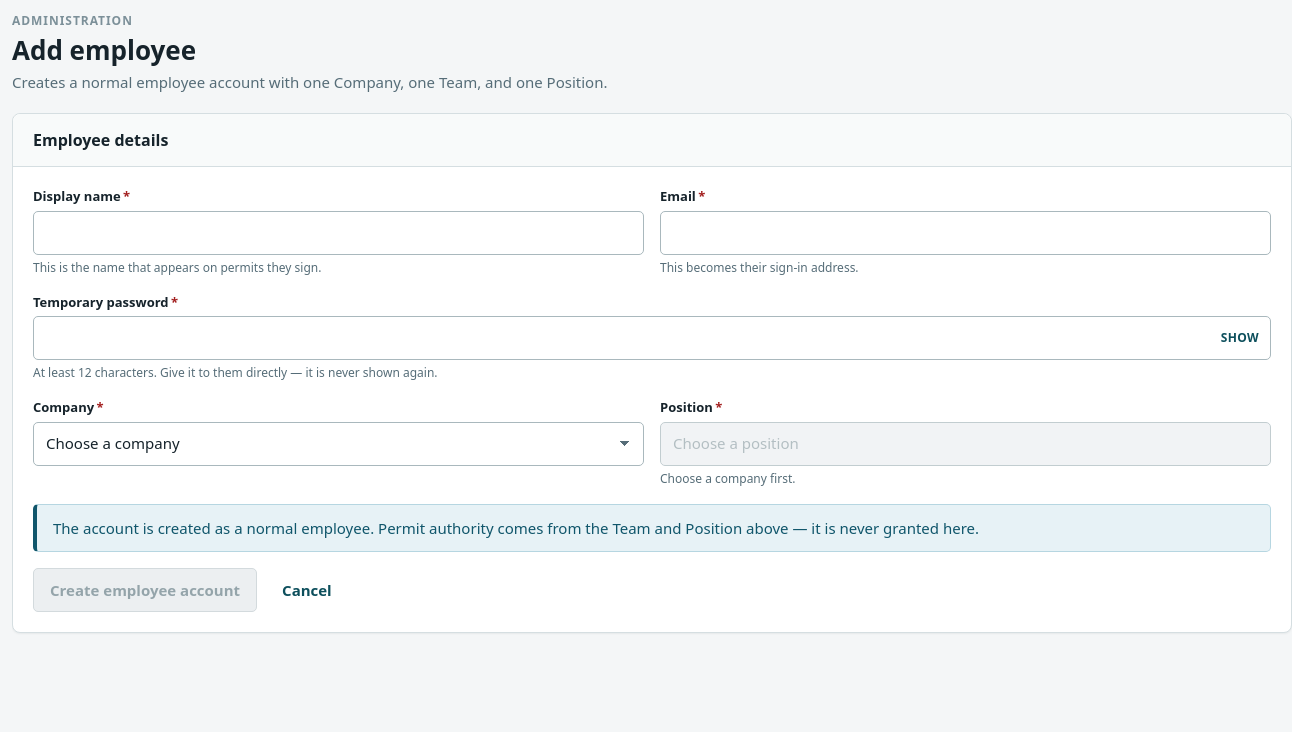
Test: when account management is unavailable in this environment › says so without naming any credential or variable
Type "Ayesha Khan" into the field labelled "Display name*" at (338,232), box x1=33 y1=210 x2=644 y2=254
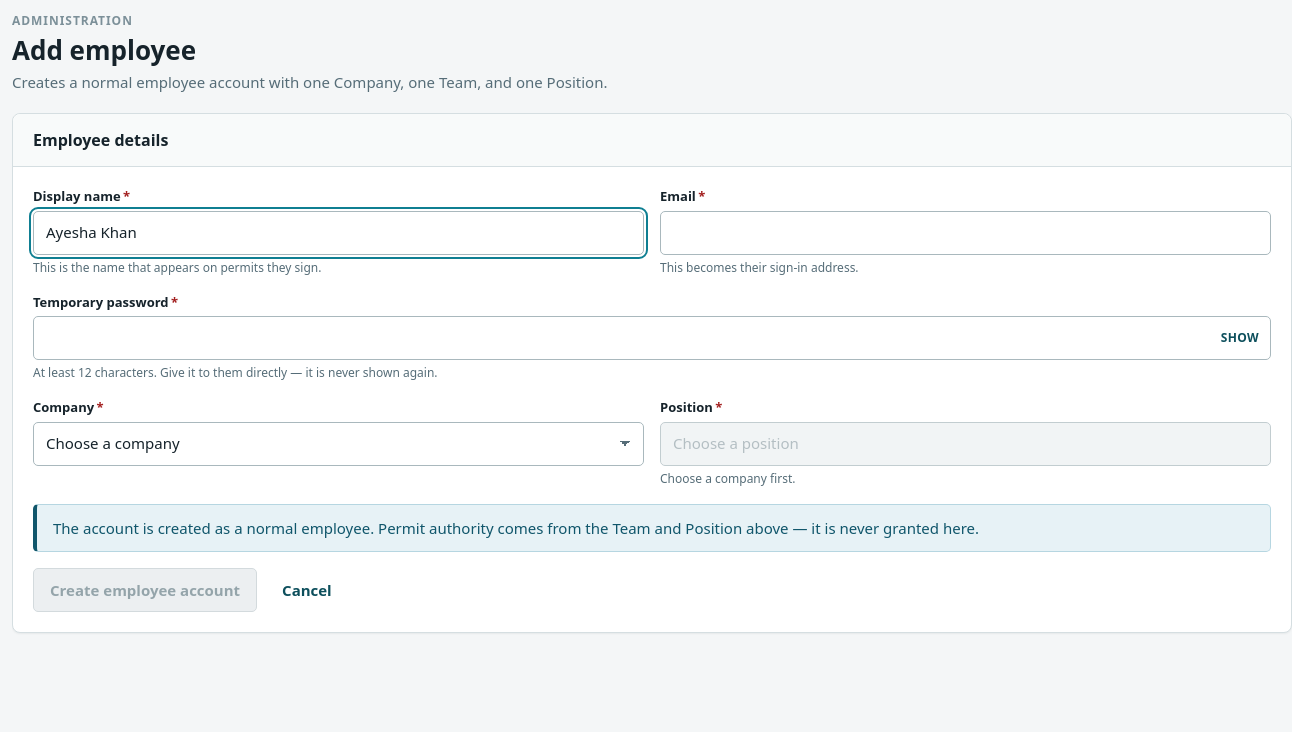
Type "ayesha@example.com" into the field labelled "Email*" at (966,232), box x1=660 y1=210 x2=1271 y2=254
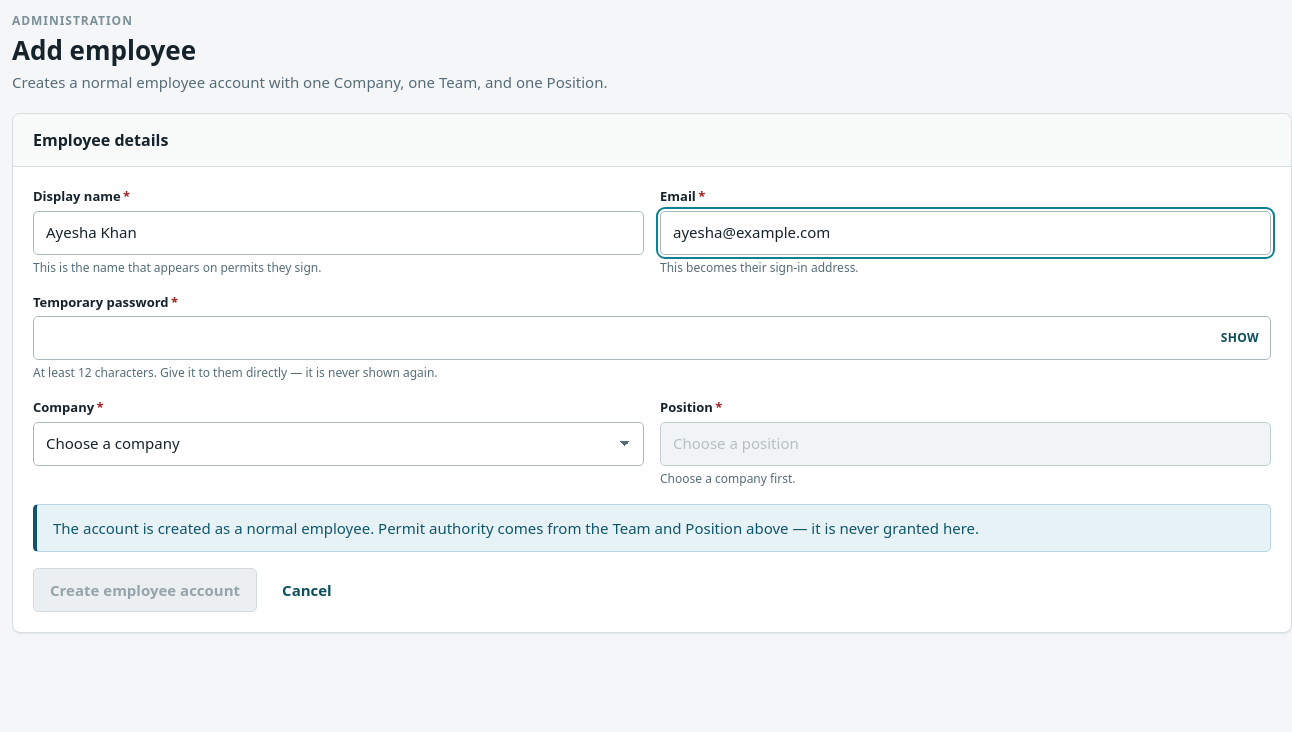
Type "a-temporary-password" into the password field labelled "Temporary password*" at (652,338), box x1=33 y1=316 x2=1271 y2=360
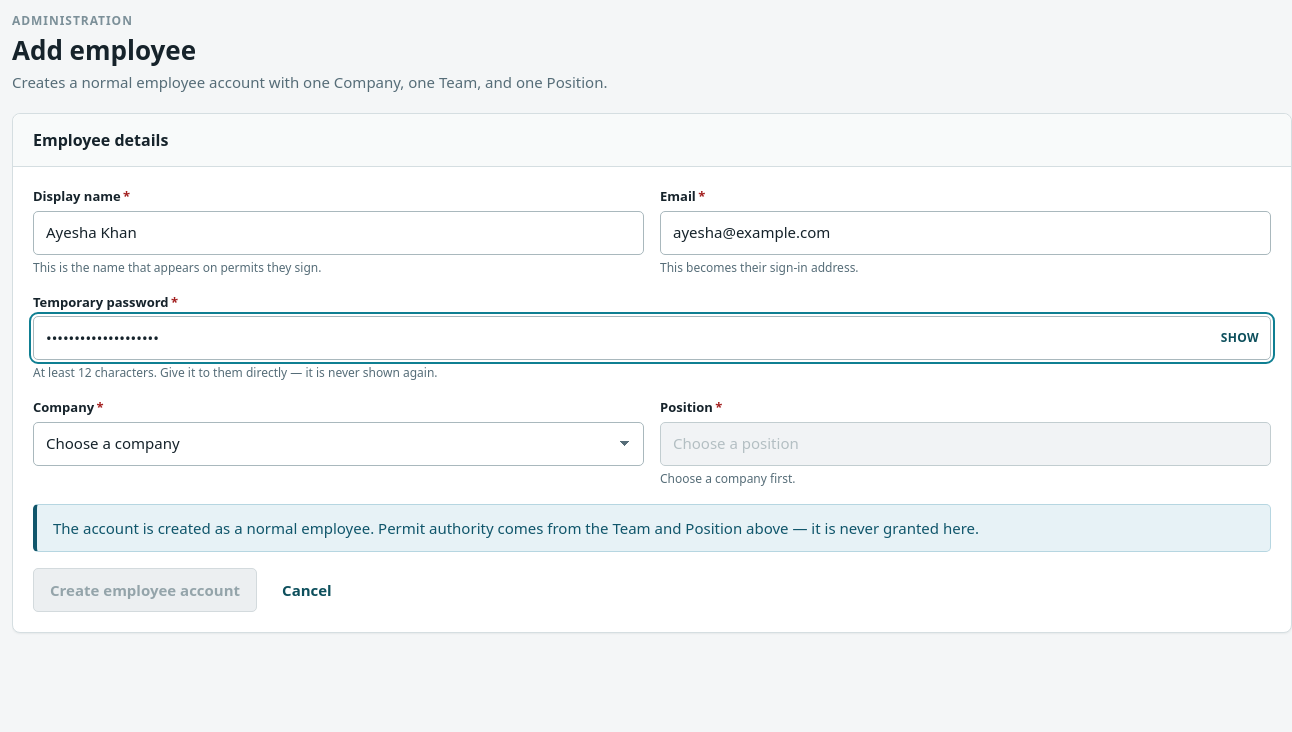
Select "ZPL" in the dropdown labelled "Company*" at (338,444), box x1=33 y1=422 x2=644 y2=466
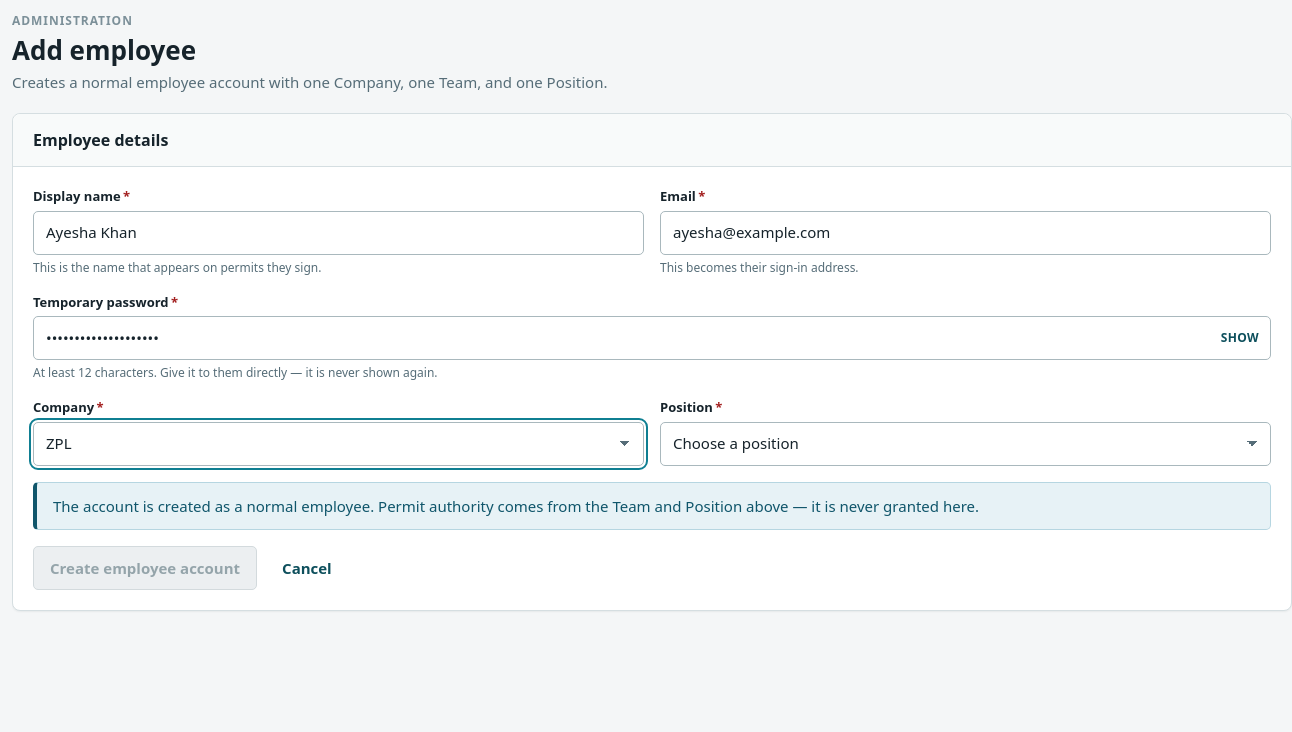
Select "Engineer" in the dropdown labelled "Position*" at (966,444), box x1=660 y1=422 x2=1271 y2=466
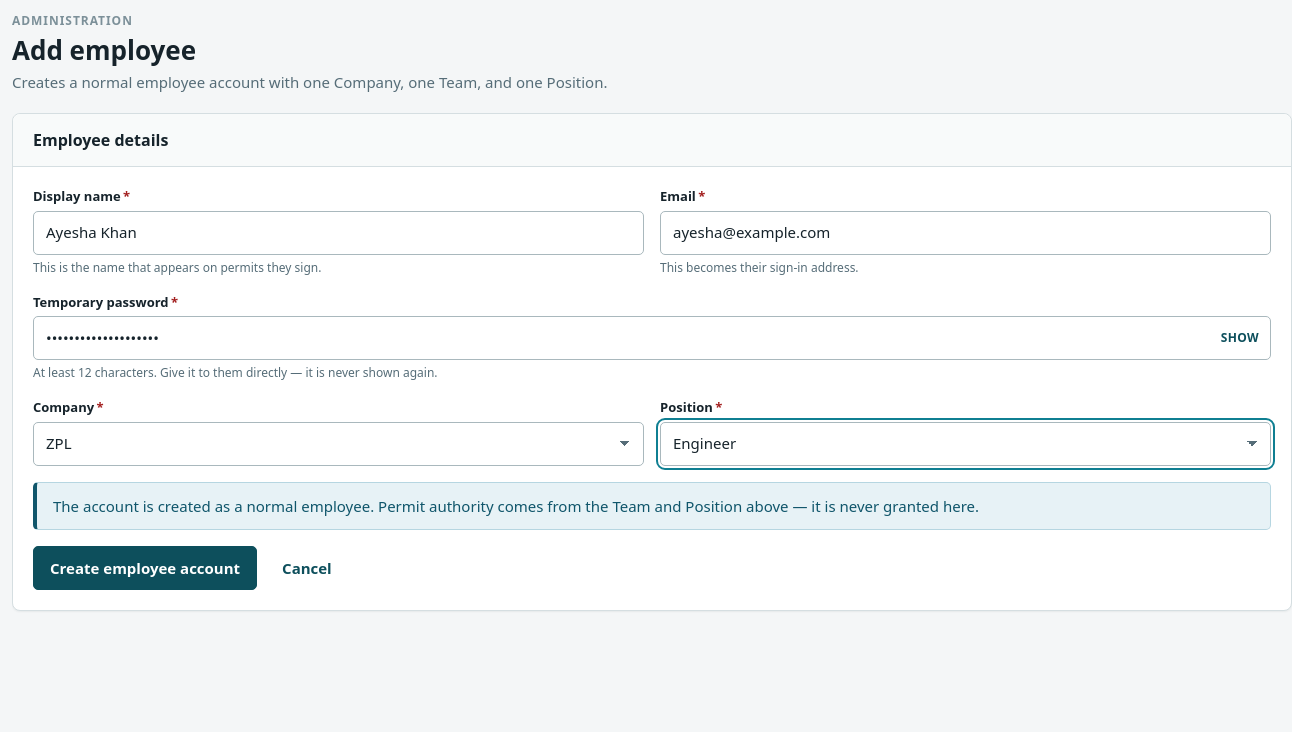
Click the button "Create employee account" at (145,568), box x1=33 y1=546 x2=257 y2=590
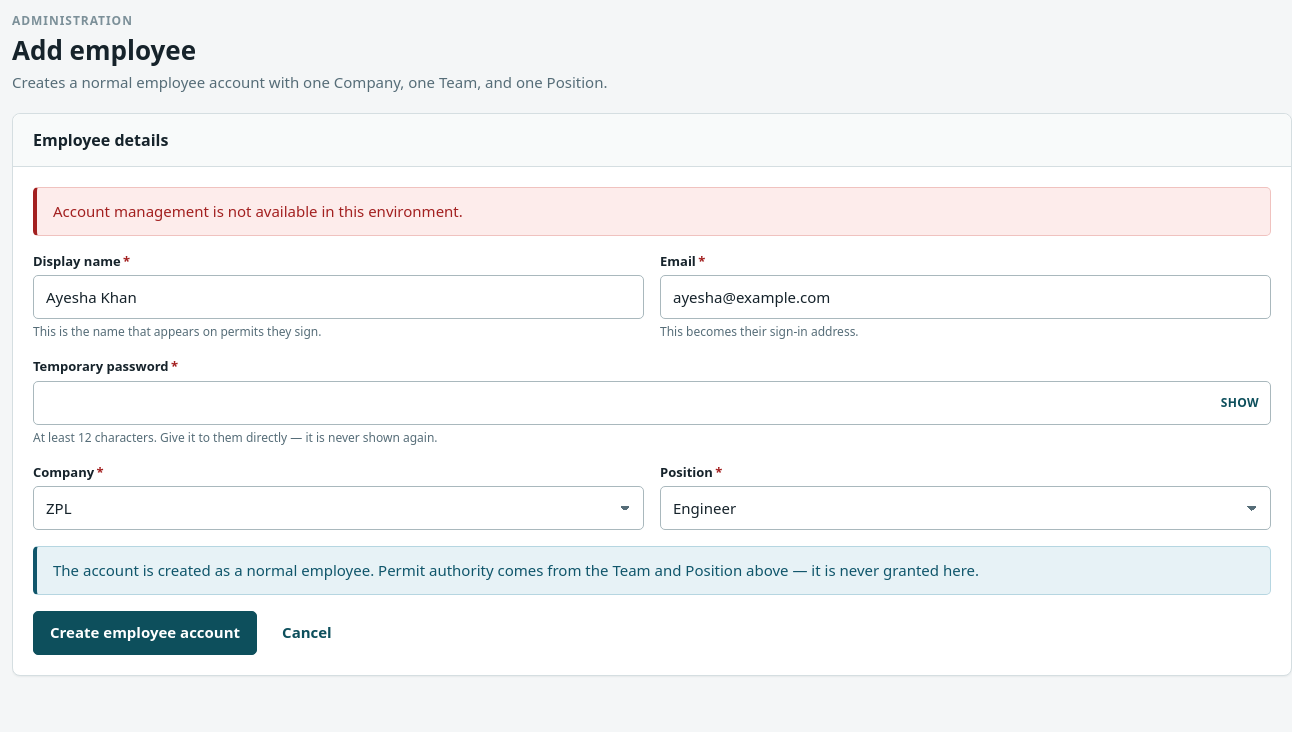
Now the message "Account management is not available in this environment." is shown, box x1=33 y1=187 x2=1271 y2=236
